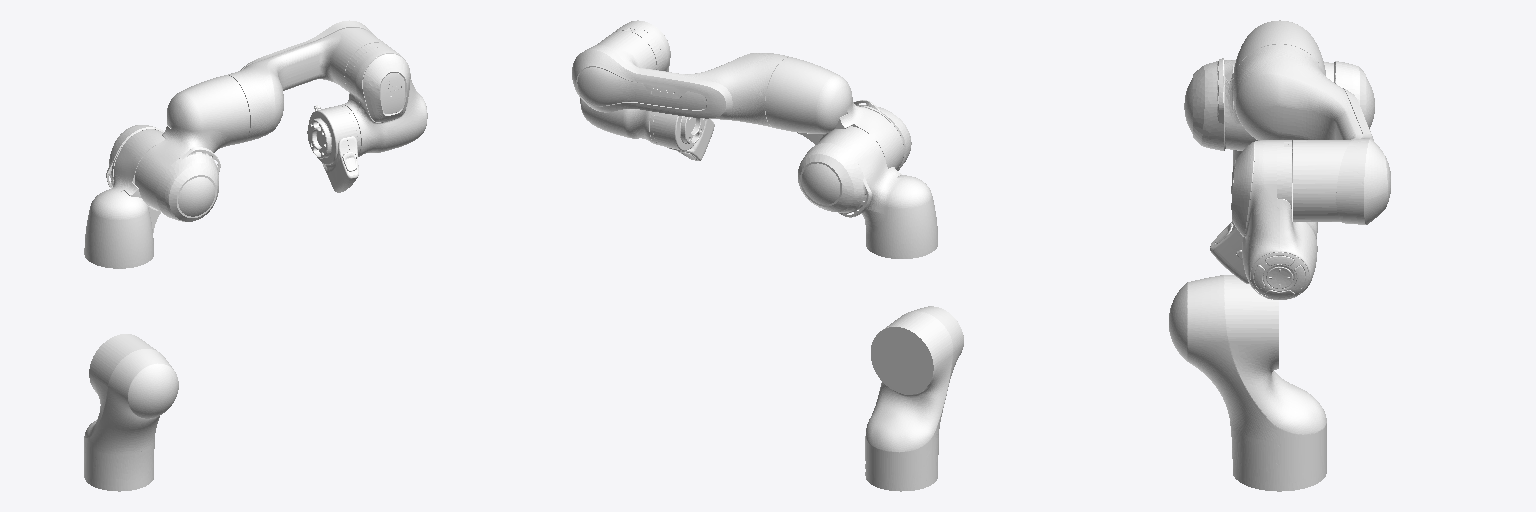
robot.urdf — panda:
<?xml version="1.0" ?>
<!-- =================================================================================== -->
<!-- |    This document was autogenerated by xacro from panda_arm_hand.urdf.xacro      | -->
<!-- |    EDITING THIS FILE BY HAND IS NOT RECOMMENDED                                 | -->
<!-- =================================================================================== -->
<robot name="panda" xmlns:xacro="http://www.ros.org/wiki/xacro">
  <link name="panda_link0">
  	<inertial>
      <origin rpy="0 0 0" xyz="0 0 0.05"/>
       <mass value="2.9"/>
       <inertia ixx="0.1" ixy="0" ixz="0" iyy="0.1" iyz="0" izz="0.1"/>
    </inertial>
    <visual>
      <geometry>
        <mesh filename="franka_panda/meshes/visual/link0.dae"/>
      </geometry>
      <material name="panda_white">
    		<color rgba="1. 1. 1. 1."/>
  		</material>
    </visual>
    <collision>
      <geometry>
        <mesh filename="franka_panda/meshes/collision/link0.stl"/>
      </geometry>
      <material name="panda_white"/>
    </collision>
  </link>
  <link name="panda_link1">
  	<inertial>
      <origin rpy="0 0 0" xyz="0 -0.04 -0.05"/>
       <mass value="2.7"/>
       <inertia ixx="0.1" ixy="0" ixz="0" iyy="0.1" iyz="0" izz="0.1"/>
    </inertial>
    <visual>
      <geometry>
        <mesh filename="franka_panda/meshes/visual/link1.dae"/>
      </geometry>
      <material name="panda_white"/>
    </visual>
    <collision>
      <geometry>
        <mesh filename="franka_panda/meshes/collision/link1.stl"/>
      </geometry>
      <material name="panda_white"/>
    </collision>
  </link>
  <joint name="panda_joint1" type="revolute">
    <safety_controller k_position="100.0" k_velocity="40.0" soft_lower_limit="-2.8973" soft_upper_limit="2.8973"/>
    <origin rpy="0 0 0" xyz="0 0 0.333"/>
    <parent link="panda_link0"/>
    <child link="panda_link1"/>
    <axis xyz="0 0 1"/>
    <limit effort="87" lower="-2.8973" upper="2.8973" velocity="2.1750"/>
  </joint>
  <link name="panda_link2">
  	<inertial>
      <origin rpy="0 0 0" xyz="0 -0.04 0.06"/>
       <mass value="2.73"/>
       <inertia ixx="0.1" ixy="0" ixz="0" iyy="0.1" iyz="0" izz="0.1"/>
    </inertial>
    <visual>
      <geometry>
        <mesh filename="franka_panda/meshes/visual/link2.dae"/>
      </geometry>
      <material name="panda_white"/>
    </visual>
    <collision>
      <geometry>
        <mesh filename="franka_panda/meshes/collision/link2.stl"/>
      </geometry>
      <material name="panda_white"/>
    </collision>
  </link>
  <joint name="panda_joint2" type="revolute">
    <safety_controller k_position="100.0" k_velocity="40.0" soft_lower_limit="-1.7628" soft_upper_limit="1.7628"/>
    <origin rpy="-1.57079632679 0 0" xyz="0 0 0"/>
    <parent link="panda_link1"/>
    <child link="panda_link2"/>
    <axis xyz="0 0 1"/>
    <limit effort="87" lower="-1.7628" upper="1.7628" velocity="2.1750"/>
  </joint>
  <link name="panda_link3">
	  <inertial>
      <origin rpy="0 0 0" xyz="0.01 0.01 -0.05"/>
       <mass value="2.04"/>
       <inertia ixx="0.1" ixy="0" ixz="0" iyy="0.1" iyz="0" izz="0.1"/>
    </inertial>
    <visual>
      <geometry>
        <mesh filename="franka_panda/meshes/visual/link3.dae"/>
      </geometry>
      <material name="panda_red">
    		<color rgba="1. 1. 1. 1."/>
  		</material>
    </visual>
    <collision>
      <geometry>
        <mesh filename="franka_panda/meshes/collision/link3.stl"/>
      </geometry>
    </collision>
  </link>
  <joint name="panda_joint3" type="revolute">
    <safety_controller k_position="100.0" k_velocity="40.0" soft_lower_limit="-2.8973" soft_upper_limit="2.8973"/>
    <origin rpy="1.57079632679 0 0" xyz="0 -0.316 0"/>
    <parent link="panda_link2"/>
    <child link="panda_link3"/>
    <axis xyz="0 0 1"/>
    <limit effort="87" lower="-2.8973" upper="2.8973" velocity="2.1750"/>
  </joint>
  <link name="panda_link4">
  	<inertial>
      <origin rpy="0 0 0" xyz="-0.03 0.03 0.02"/>
       <mass value="2.08"/>
       <inertia ixx="0.1" ixy="0" ixz="0" iyy="0.1" iyz="0" izz="0.1"/>
    </inertial>
    <visual>
      <geometry>
        <mesh filename="franka_panda/meshes/visual/link4.dae"/>
      </geometry>
      <material name="panda_white"/>
    </visual>
    <collision>
      <geometry>
        <mesh filename="franka_panda/meshes/collision/link4.stl"/>
      </geometry>
      <material name="panda_white"/>
    </collision>
  </link>
  <joint name="panda_joint4" type="revolute">
    <safety_controller k_position="100.0" k_velocity="40.0" soft_lower_limit="-3.0718" soft_upper_limit="-0.0698"/>
    <origin rpy="1.57079632679 0 0" xyz="0.0825 0 0"/>
    <parent link="panda_link3"/>
    <child link="panda_link4"/>
    <axis xyz="0 0 1"/>
    <limit effort="87" lower="-3.0718" upper="-0.0698" velocity="2.1750"/>
  </joint>
  <link name="panda_link5">
  	<inertial>
      <origin rpy="0 0 0" xyz="0 0.04 -0.12"/>
       <mass value="3"/>
       <inertia ixx="0.1" ixy="0" ixz="0" iyy="0.1" iyz="0" izz="0.1"/>
    </inertial>
    <visual>
      <geometry>
        <mesh filename="franka_panda/meshes/visual/link5.dae"/>
      </geometry>
      <material name="panda_white"/>
    </visual>
    <collision>
      <geometry>
        <mesh filename="franka_panda/meshes/collision/link5.stl"/>
      </geometry>
      <material name="panda_white"/>
    </collision>
  </link>
  <joint name="panda_joint5" type="revolute">
    <safety_controller k_position="100.0" k_velocity="40.0" soft_lower_limit="-2.8973" soft_upper_limit="2.8973"/>
    <origin rpy="-1.57079632679 0 0" xyz="-0.0825 0.384 0"/>
    <parent link="panda_link4"/>
    <child link="panda_link5"/>
    <axis xyz="0 0 1"/>
    <limit effort="12" lower="-2.8973" upper="2.8973" velocity="2.6100"/>
  </joint>
  <link name="panda_link6">
  	<inertial>
      <origin rpy="0 0 0" xyz="0.04 0 0"/>
       <mass value="1.3"/>
       <inertia ixx="0.1" ixy="0" ixz="0" iyy="0.1" iyz="0" izz="0.1"/>
    </inertial>
    <visual>
      <geometry>
        <mesh filename="franka_panda/meshes/visual/link6.dae"/>
      </geometry>
      <material name="panda_white"/>
    </visual>
    <collision>
      <geometry>
        <mesh filename="franka_panda/meshes/collision/link6.stl"/>
      </geometry>
      <material name="panda_white"/>
    </collision>
  </link>
  <joint name="panda_joint6" type="revolute">
    <safety_controller k_position="100.0" k_velocity="40.0" soft_lower_limit="-0.0175" soft_upper_limit="3.7525"/>
    <origin rpy="1.57079632679 0 0" xyz="0 0 0"/>
    <parent link="panda_link5"/>
    <child link="panda_link6"/>
    <axis xyz="0 0 1"/>
    <limit effort="12" lower="-0.0175" upper="3.7525" velocity="2.6100"/>
  </joint>
  <link name="panda_link7">
  	<inertial>
      <origin rpy="0 0 0" xyz="0 0 0.08"/>
       <mass value=".2"/>
       <inertia ixx="0.1" ixy="0" ixz="0" iyy="0.1" iyz="0" izz="0.1"/>
    </inertial>
    <visual>
      <geometry>
        <mesh filename="franka_panda/meshes/visual/link7.dae"/>
      </geometry>
      <material name="panda_white"/>
    </visual>
    <collision>
      <geometry>
        <mesh filename="franka_panda/meshes/collision/link7.stl"/>
      </geometry>
      <material name="panda_white"/>
    </collision>
  </link>
  <joint name="panda_joint7" type="revolute">
    <safety_controller k_position="100.0" k_velocity="40.0" soft_lower_limit="-2.8973" soft_upper_limit="2.8973"/>
    <origin rpy="1.57079632679 0 0" xyz="0.088 0 0"/>
    <parent link="panda_link6"/>
    <child link="panda_link7"/>
    <axis xyz="0 0 1"/>
    <limit effort="12" lower="-2.8973" upper="2.8973" velocity="2.6100"/>
  </joint>
  <link name="panda_link8">
  	 <inertial>
      <origin rpy="0 0 0" xyz="0 0 0"/>
       <mass value="0.0"/>
       <inertia ixx="0.1" ixy="0" ixz="0" iyy="0.1" iyz="0" izz="0.1"/>
    </inertial>
  </link>
  <joint name="panda_joint8" type="fixed">
    <origin rpy="0 0 0" xyz="0 0 0.107"/>
    <parent link="panda_link7"/>
    <child link="panda_link8"/>
    <axis xyz="0 0 0"/>
  </joint>
  <joint name="panda_hand_joint" type="fixed">
    <parent link="panda_link8"/>
    <child link="panda_hand"/>
    <origin rpy="0 0 -0.785398163397" xyz="0 0 0"/>
  </joint>
  <link name="panda_hand">
  	<inertial>
      <origin rpy="0 0 0" xyz="0 0 0.04"/>
       <mass value=".81"/>
       <inertia ixx="0.1" ixy="0" ixz="0" iyy="0.1" iyz="0" izz="0.1"/>
    </inertial>
    <visual>
      <geometry>
        <mesh filename="franka_panda/meshes/visual/hand.dae"/>
      </geometry>
      <material name="panda_white"/>
    </visual>
    <collision>
      <geometry>
        <mesh filename="franka_panda/meshes/collision/hand.stl"/>
      </geometry>
      <material name="panda_white"/>
    </collision>
  </link>
  <link name="panda_leftfinger">
       <contact>
      <friction_anchor/>
      <stiffness value="30000.0"/>
      <damping value="1000.0"/>
      <spinning_friction value="0.1"/>
      <lateral_friction value="1.0"/>
    </contact>
  	<inertial>
      <origin rpy="0 0 0" xyz="0 0.01 0.02"/>
       <mass value="0.1"/>
       <inertia ixx="0.1" ixy="0" ixz="0" iyy="0.1" iyz="0" izz="0.1"/>
    </inertial>
    <visual>
      <geometry>
        <mesh filename="franka_panda/meshes/visual/finger.dae"/>
      </geometry>
      <material name="panda_white"/>
    </visual>
    <collision>
      <geometry>
        <mesh filename="franka_panda/meshes/collision/finger.stl"/>
      </geometry>
      <material name="panda_white"/>
    </collision>
  </link>
  <link name="panda_rightfinger">
        <contact>
      <friction_anchor/>
      <stiffness value="30000.0"/>
      <damping value="1000.0"/>
      <spinning_friction value="0.1"/>
      <lateral_friction value="1.0"/>
    </contact>

  	<inertial>
      <origin rpy="0 0 0" xyz="0 -0.01 0.02"/>
       <mass value="0.1"/>
       <inertia ixx="0.1" ixy="0" ixz="0" iyy="0.1" iyz="0" izz="0.1"/>
    </inertial>
    <visual>
      <origin rpy="0 0 3.14159265359" xyz="0 0 0"/>
      <geometry>
        <mesh filename="franka_panda/meshes/visual/finger.dae"/>
      </geometry>
      <material name="panda_white"/>
    </visual>
    <collision>
      <origin rpy="0 0 3.14159265359" xyz="0 0 0"/>
      <geometry>
        <mesh filename="franka_panda/meshes/collision/finger.stl"/>
      </geometry>
      <material name="panda_white"/>
    </collision>
  </link>
  <joint name="panda_finger_joint1" type="prismatic">
    <parent link="panda_hand"/>
    <child link="panda_leftfinger"/>
    <origin rpy="0 0 0" xyz="0 0 0.0584"/>
    <axis xyz="0 1 0"/>
    <limit effort="20" lower="0.0" upper="0.04" velocity="0.2"/>
  </joint>
  <joint name="panda_finger_joint2" type="prismatic">
    <parent link="panda_hand"/>
    <child link="panda_rightfinger"/>
    <origin rpy="0 0 0" xyz="0 0 0.0584"/>
    <axis xyz="0 -1 0"/>
    <limit effort="20" lower="0.0" upper="0.04" velocity="0.2"/>
    <mimic joint="panda_finger_joint1"/>
  </joint>
  <link name="right_gripper">
    <inertial>
      <!-- Dummy inertial parameters to avoid link lumping-->
      <mass value="0.01"/>
      <inertia ixx="0.0001" ixy="0.0" ixz="0.0" iyy="0.0001" iyz="0.0" izz="0.0001"/>
      <origin rpy="0 0 0" xyz="0 0 0"/>
    </inertial>
  </link>
  <joint name="right_gripper" type="fixed">
    <origin rpy="0 0 2.35619449019" xyz="0 0 0.1"/>
      <axis xyz="0 0 1"/>
    <parent link="panda_link8"/>
    <child link="right_gripper"/>
  </joint>
   <link name="panda_grasptarget">
 <inertial>
      <origin rpy="0 0 0" xyz="0 0 0"/>
       <mass value="0.0"/>
       <inertia ixx="0.1" ixy="0" ixz="0" iyy="0.1" iyz="0" izz="0.1"/>
    </inertial>
   </link>
   <joint name="panda_grasptarget_hand" type="fixed">
    <parent link="panda_hand"/>
    <child link="panda_grasptarget"/>
    <origin rpy="0 0 0" xyz="0 0 0.105"/>
  </joint>

</robot>

--- What the picture shows (computed from the rendered views, not written in the file) ---
The picture shows the robot from 3 angles, left to right: view 1: azimuth 30°, elevation 25°; view 2: azimuth 150°, elevation 25°; view 3: azimuth 270°, elevation 25°; orthographic projection.
Model panda with 14 links and 13 joints (7 revolute, 2 prismatic, 4 fixed), rooted at panda_link0, posed all joints at 0 but 1 set to mid-range because 0 is outside their limits (panda_joint4 = -1.57).
Links seen in each view (by area): view 1: panda_link1, panda_link4, panda_link3, panda_link5, panda_link6, panda_link7; view 2: panda_link1, panda_link5, panda_link3, panda_link4, panda_link6, panda_link7; view 3: panda_link1, panda_link5, panda_link6, panda_link4, panda_link3, panda_link7.
Link boxes in pixels (x1,y1,x2,y2): panda_link1: [84, 334, 178, 491]; panda_link4: [135, 75, 249, 221]; panda_link3: [84, 125, 164, 268]; panda_link5: [228, 20, 386, 142]; panda_link6: [342, 43, 427, 156]; panda_link7: [307, 105, 360, 192]; panda_link1: [865, 306, 963, 491]; panda_link5: [572, 31, 788, 127]; panda_link3: [798, 126, 937, 258]; panda_link4: [765, 57, 911, 170]; panda_link6: [580, 20, 670, 144]; panda_link7: [650, 112, 714, 160]; panda_link1: [1169, 275, 1326, 491]; panda_link5: [1233, 44, 1390, 224]; panda_link6: [1231, 140, 1317, 299]; panda_link4: [1184, 20, 1325, 150]; panda_link3: [1233, 61, 1374, 182]; panda_link7: [1210, 183, 1317, 283].
Bounding box of the posed robot: 0.6032 × 0.2593 × 0.6455 m (x, y, z).
6 mesh visuals loaded from 10 distinct referenced files (6 Collada DAE); not drawn: 5 (reference not matched to a file when rendering).